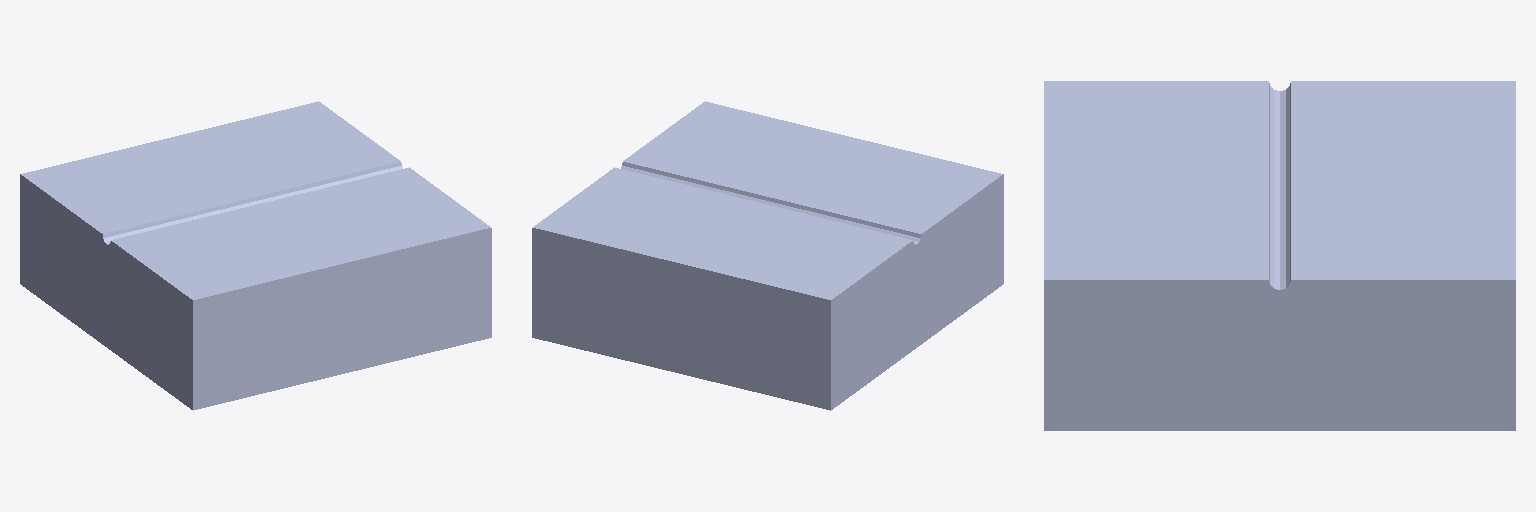
robot.urdf — phantom:
<robot name="phantom">
  <link name="phantom_base_link">

    <inertial>
      <origin xyz="6.4486E-18 4.06362560575712E-18 0.038011" rpy="0 0 0" />
      <mass value="3.5431" />
      <inertia
        ixx="0.0155042369309215"
        ixy="-1.36822902956705E-19"
        ixz="1.12544612317184E-18"
        iyy="1.68245592164329E-18"
        iyz="-0.0154702976948005"
        izz="9.52298244442997E-19" />
    </inertial>

    <visual>
      <origin xyz="0 0 0" rpy="1.5707963267949 0 0" />
      <geometry>
        <mesh filename="package://phantom_description/meshes/Phantom.STL" />
      </geometry>
      <material name="">
        <color rgba="0.79216 0.81961 0.93333 0.9" />
      </material>
    </visual>

    <collision>
      <origin xyz="0 0 0" rpy="1.5707963267949 0 0" />
      <geometry>
        <mesh filename="package://phantom_description/meshes/Phantom.STL" />
      </geometry>
    </collision>

  </link>
</robot>

--- Facts derived from the render (not from the file) ---
3 views of the same robot in one strip: view 1: azimuth 30°, elevation 25°; view 2: azimuth 150°, elevation 25°; view 3: azimuth 270°, elevation 25° (orthographic).
Model phantom with 1 links and 0 joints (none), rooted at phantom_base_link, posed every joint at zero.
Links seen in each view (by area): view 1: phantom_base_link; view 2: phantom_base_link; view 3: phantom_base_link.
Link boxes in pixels (x1,y1,x2,y2): phantom_base_link: (20,101,491,410); phantom_base_link: (532,101,1003,410); phantom_base_link: (1044,81,1515,430).
Size in the robot's own frame: 0.2159 by 0.2159 by 0.0762 metres.
Meshes: 1 distinct files referenced, 1 mesh visuals loaded (1 binary STL).